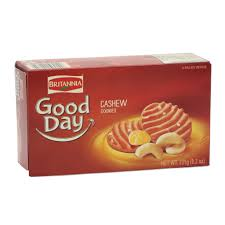gooday-medium: (10, 58, 214, 171)
